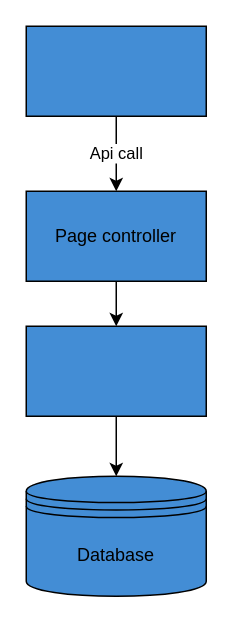
Some shapes in this 233 by 623 pixel diagram are drawn without their labels. The shapes that lost their labels are listed below. From the top down, each one's centre as x and y in pixels, then its label:
At [115,70]: "Front end".
At [115,370]: "Page component".
